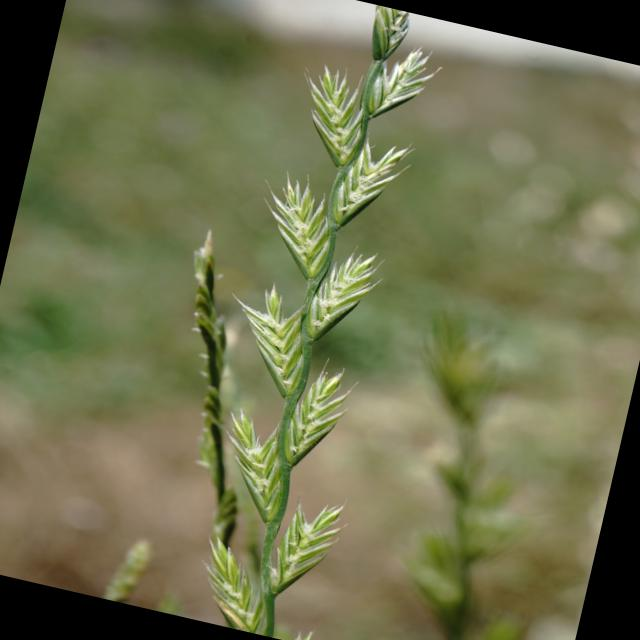Lolium: (109, 0, 463, 640)
